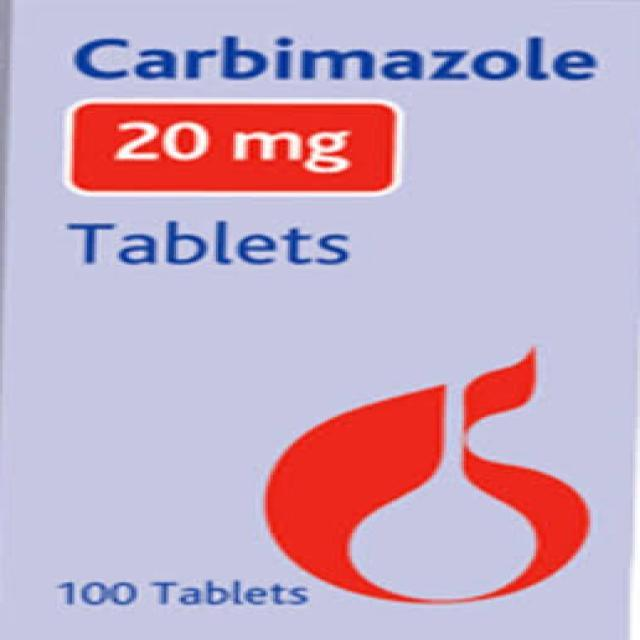drug-name: (59, 30, 608, 90)
